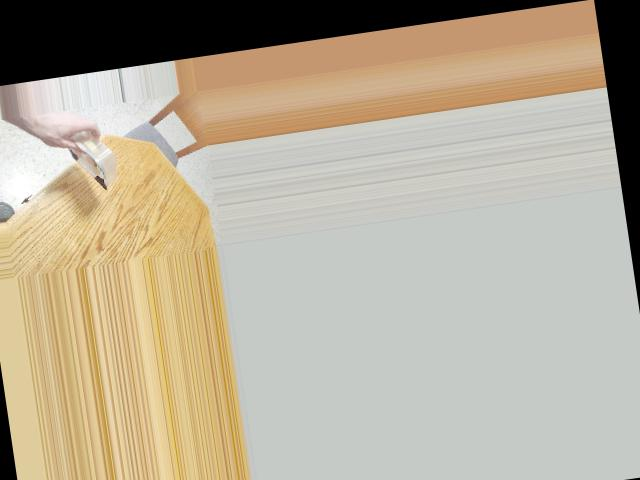cheese: (43, 118, 126, 191)
